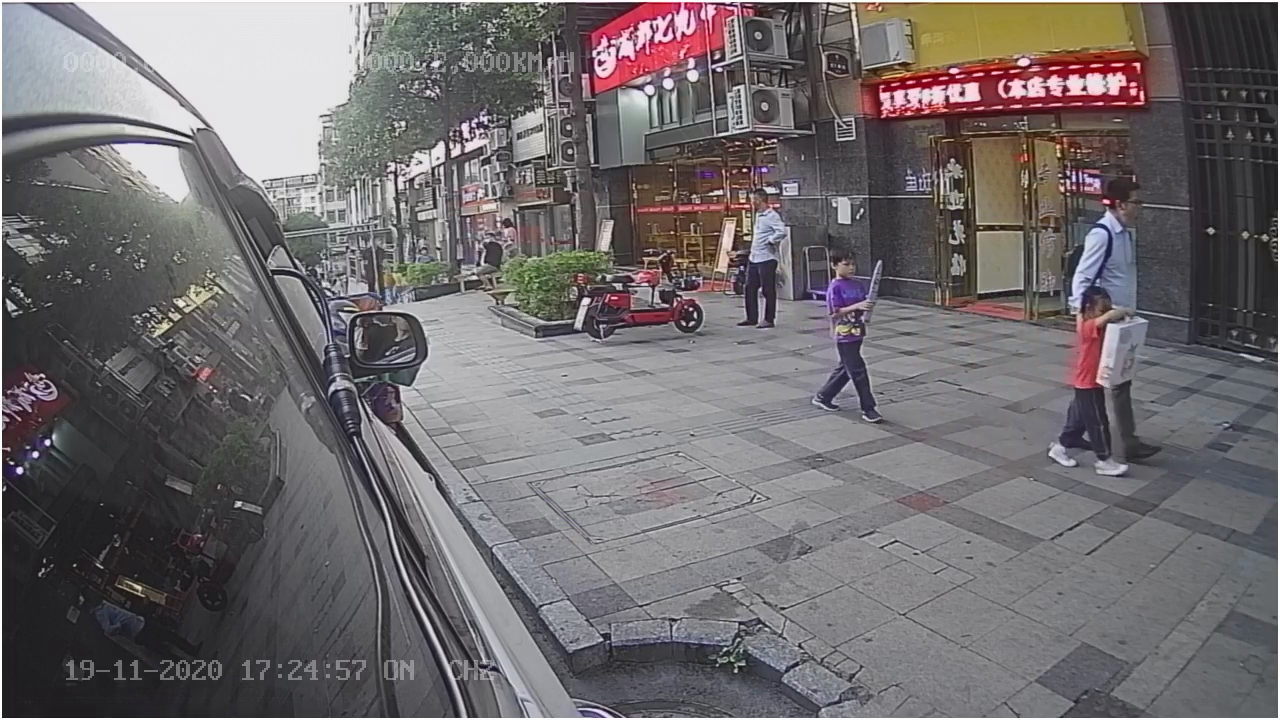person: (813, 246, 888, 426), (1073, 171, 1144, 292)
